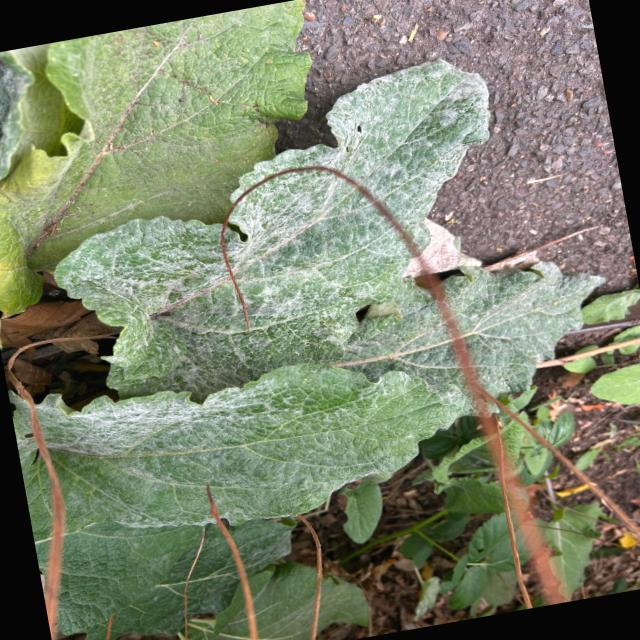powdery_mildew: (56, 171, 410, 397), (37, 364, 461, 532), (232, 61, 487, 246), (441, 262, 602, 397), (335, 277, 478, 415)
